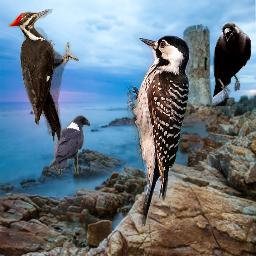Crow: (212, 22, 251, 106), (49, 115, 90, 174)
Woodpecker: (127, 30, 193, 232), (8, 9, 79, 143)
